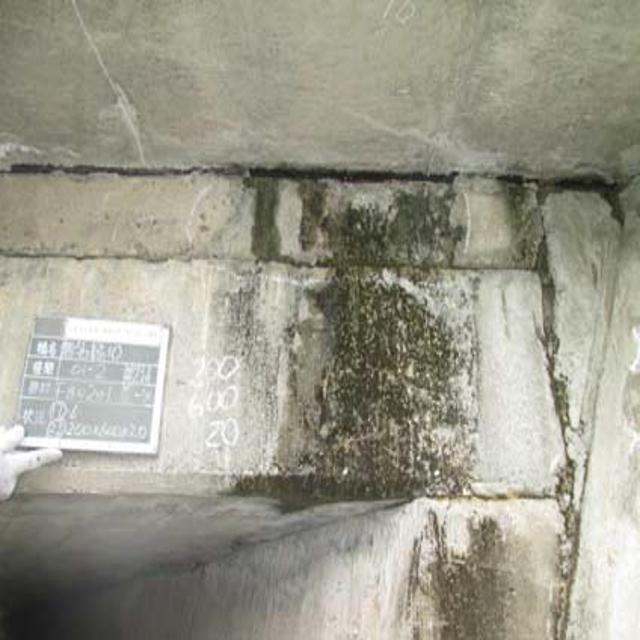leakage: (235, 152, 476, 494)
